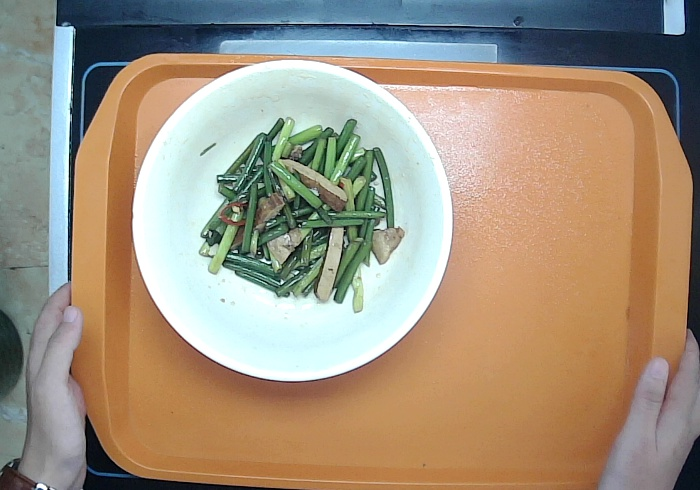ZNLD-Da_Tang_Wan: (128, 55, 455, 386)
